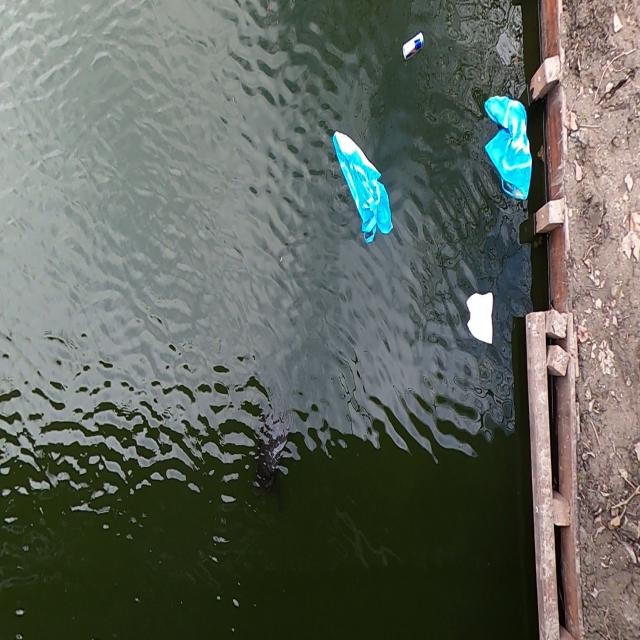Autre plastique: (462, 288, 500, 354)
Non plastique: (400, 30, 426, 64)
Sac plastique: (330, 128, 398, 250), (481, 94, 534, 207)
